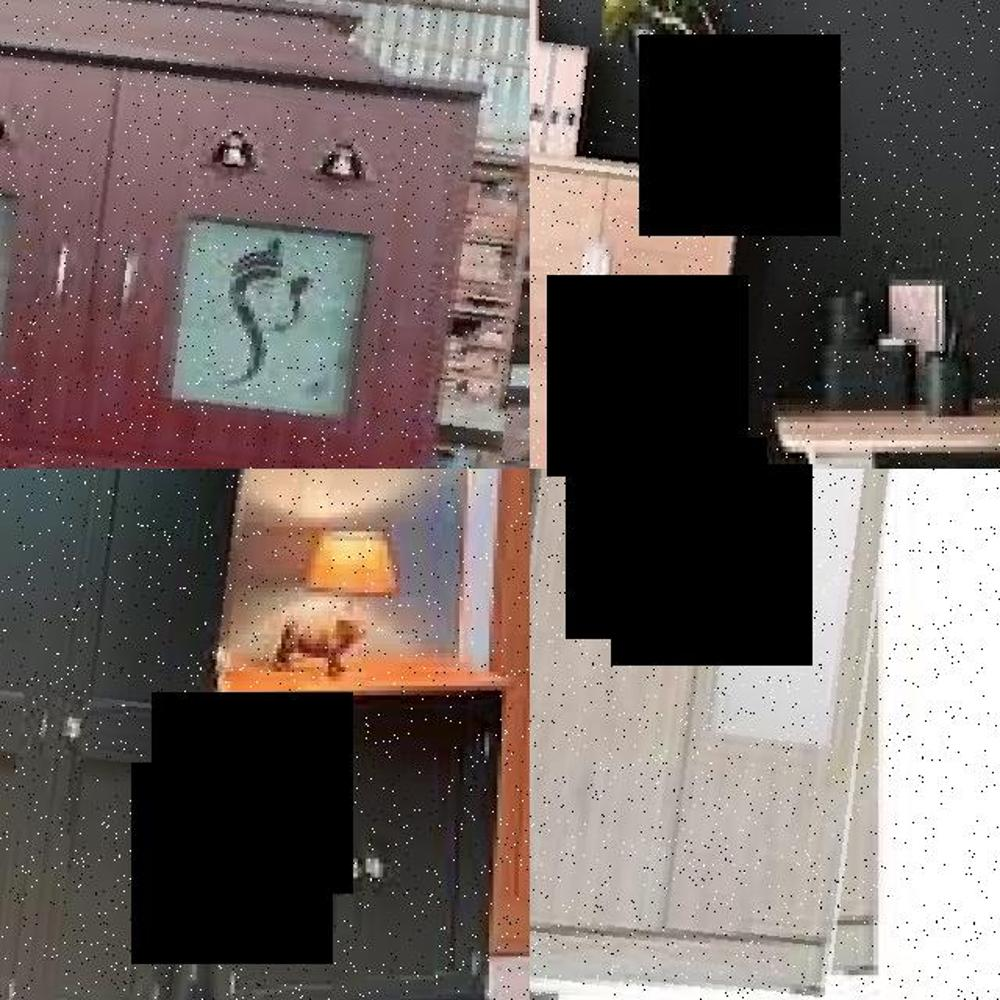cabinet: (0, 0, 530, 469), (530, 469, 908, 1000), (0, 469, 283, 1000), (530, 16, 856, 469), (209, 655, 530, 1000)
